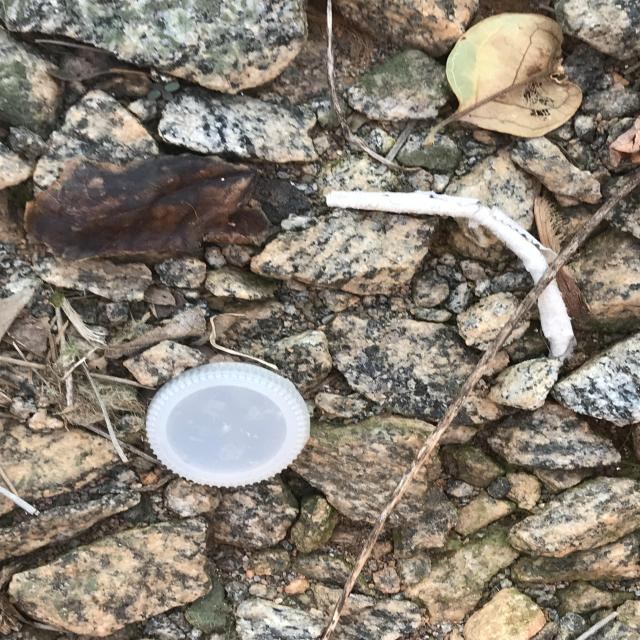litter: (322, 189, 571, 363), (142, 365, 319, 491)
